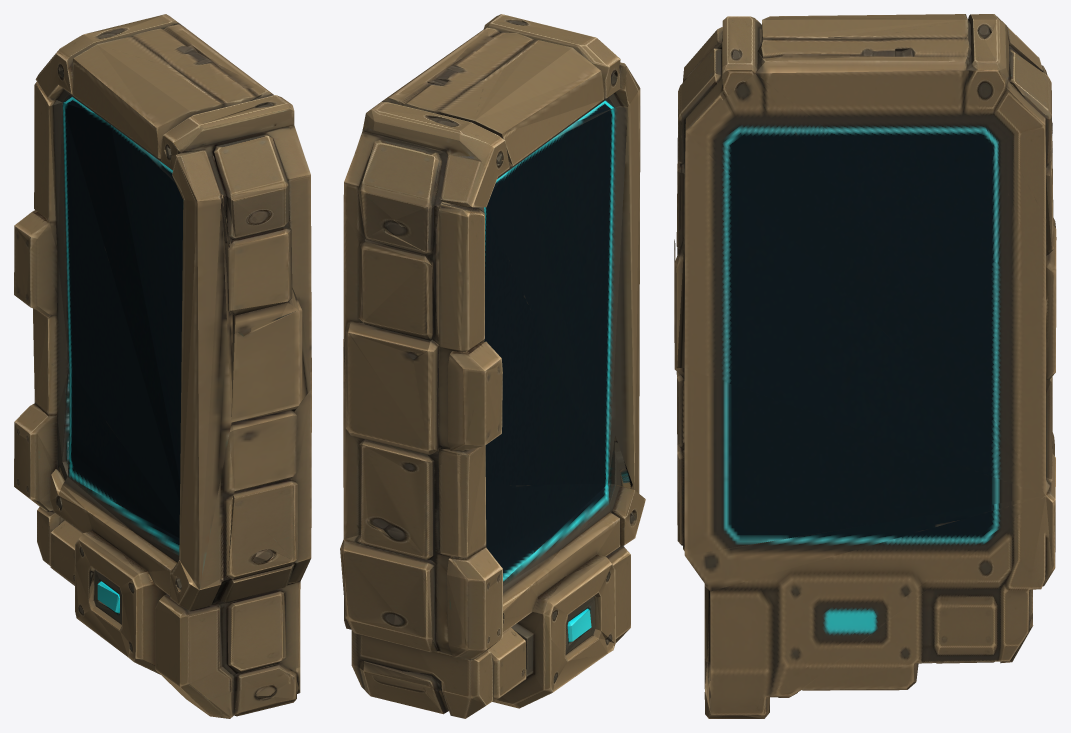
Rendered from skaner-biologa.glb.
3 views of the same model, side by side, from view 1: azimuth 30°, elevation 25°; view 2: azimuth 150°, elevation 25°; view 3: azimuth 270°, elevation 25° (orthographic). The views are drawn at different scales.
Parts seen in each view (by area): view 1: skaner-biologa; view 2: skaner-biologa; view 3: skaner-biologa.
Part boxes in pixels (box(x1,y1,x2,y2)): skaner-biologa: box(14, 14, 311, 718); skaner-biologa: box(340, 14, 645, 718); skaner-biologa: box(674, 14, 1056, 718).
Size of the model in its own units: 0.45 by 1.9 by 1.
Materials: 1 (1 with a texture image).
